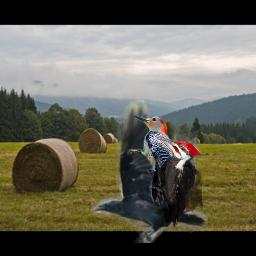Crow: (91, 100, 208, 243)
Woodpecker: (149, 136, 203, 227), (127, 116, 173, 205)
